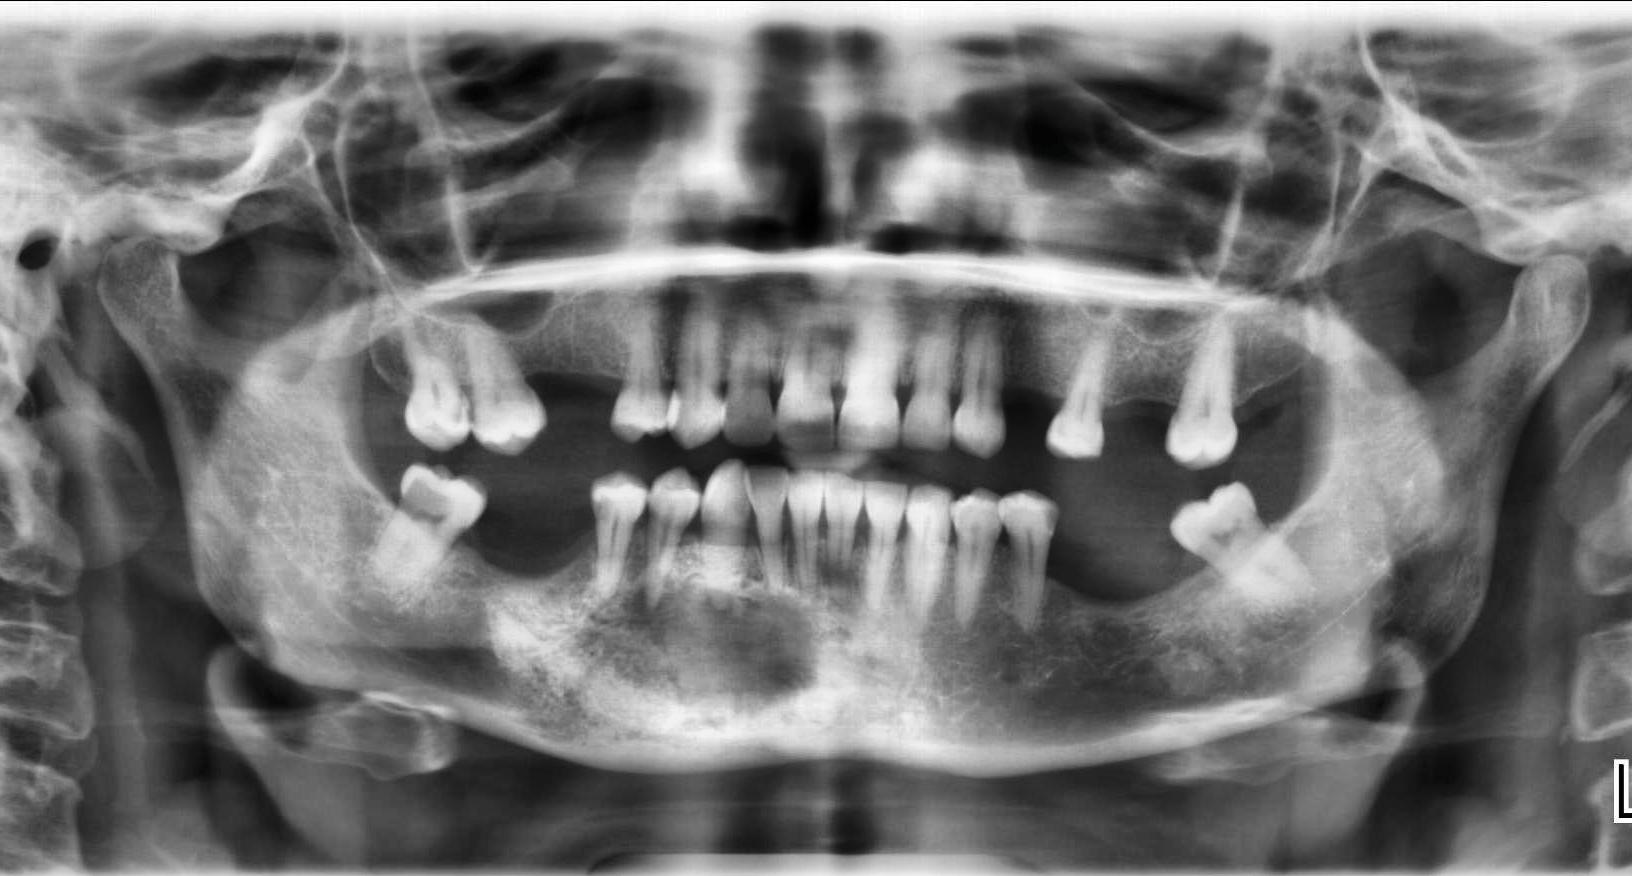keratokist: (569, 576, 820, 723)
